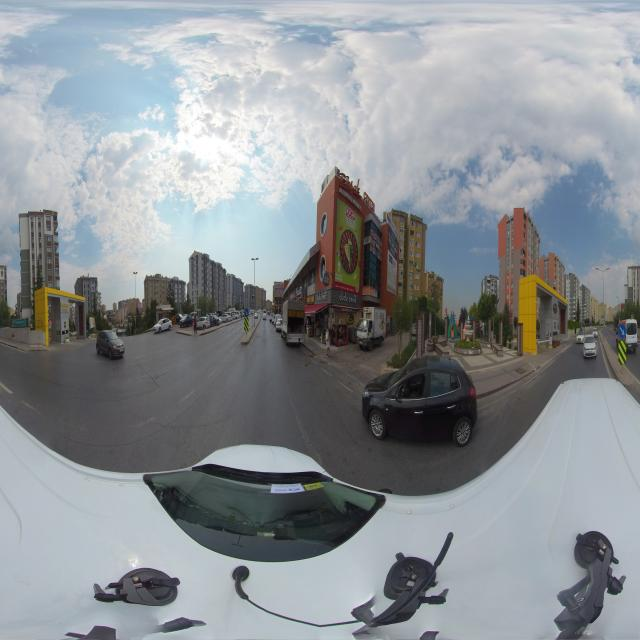SignStore: (334, 290, 360, 307), (316, 289, 329, 304), (308, 283, 315, 295), (307, 294, 315, 304), (302, 289, 306, 301)
